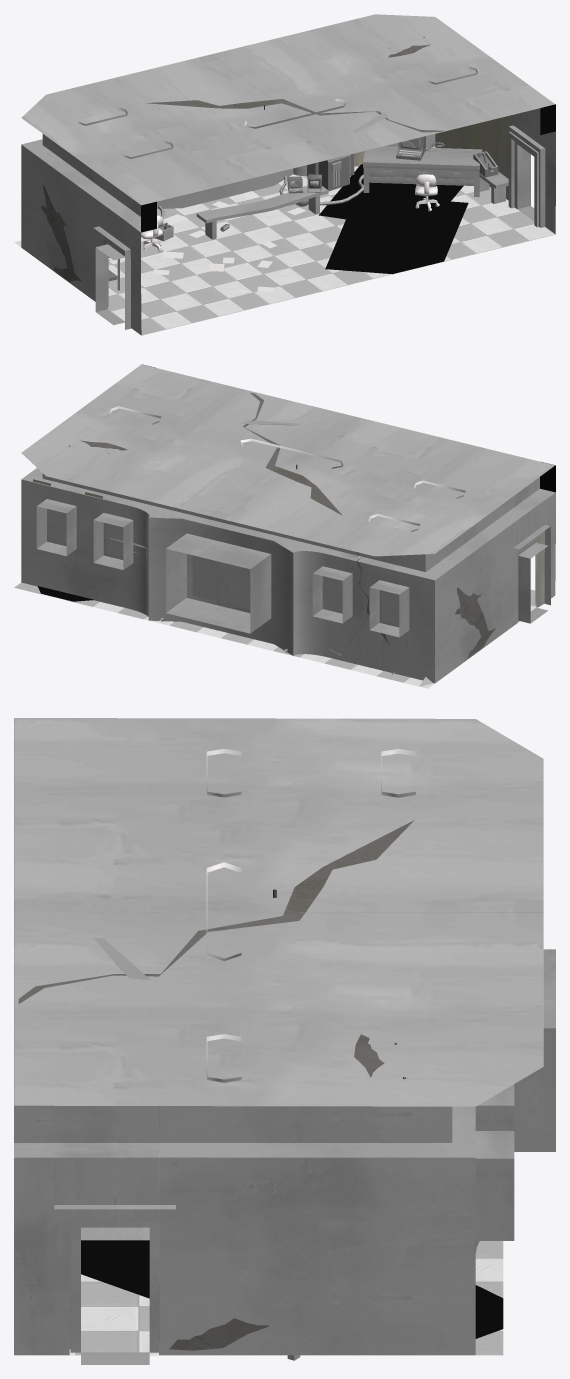
File: MSH_QuestObservatory_L1_R2_optimized.fbx
The picture shows the model from 3 angles, top to bottom: view 1: azimuth 30°, elevation 25°; view 2: azimuth 150°, elevation 25°; view 3: azimuth 270°, elevation 25°; orthographic projection. The views are drawn at different scales.
Visible parts, largest first — view 1: lightmap10, lightmap6, lightmap7, MSH_QuestObservatory_L1_R2_Decals_01, lightmap2, lightmap0, lightmap1; view 2: lightmap10, lightmap7, lightmap2, lightmap6, lightmap0, MSH_QuestObservatory_L1_R2_Decals_01; view 3: lightmap10, lightmap7, lightmap2, lightmap6, lightmap0, MSH_QuestObservatory_L1_R2_Decals_01.
Part boxes in pixels (x1,y1,x2,y2): lightmap10: [21, 14, 554, 205]; lightmap6: [14, 146, 555, 335]; lightmap7: [21, 108, 555, 335]; MSH_QuestObservatory_L1_R2_Decals_01: [103, 115, 514, 274]; lightmap2: [78, 37, 508, 292]; lightmap0: [93, 104, 555, 329]; lightmap1: [155, 146, 482, 241]; lightmap10: [21, 364, 554, 556]; lightmap7: [21, 468, 555, 683]; lightmap2: [36, 406, 465, 686]; lightmap6: [14, 582, 540, 688]; lightmap0: [143, 364, 555, 623]; MSH_QuestObservatory_L1_R2_Decals_01: [33, 479, 540, 621]; lightmap10: [14, 718, 543, 1106]; lightmap7: [14, 1105, 479, 1355]; lightmap2: [93, 749, 555, 1240]; lightmap6: [69, 1241, 503, 1355]; lightmap0: [54, 1205, 175, 1364]; MSH_QuestObservatory_L1_R2_Decals_01: [81, 1240, 503, 1338].
Size of the model in its own units: 20.59 by 6.18 by 11.57.
